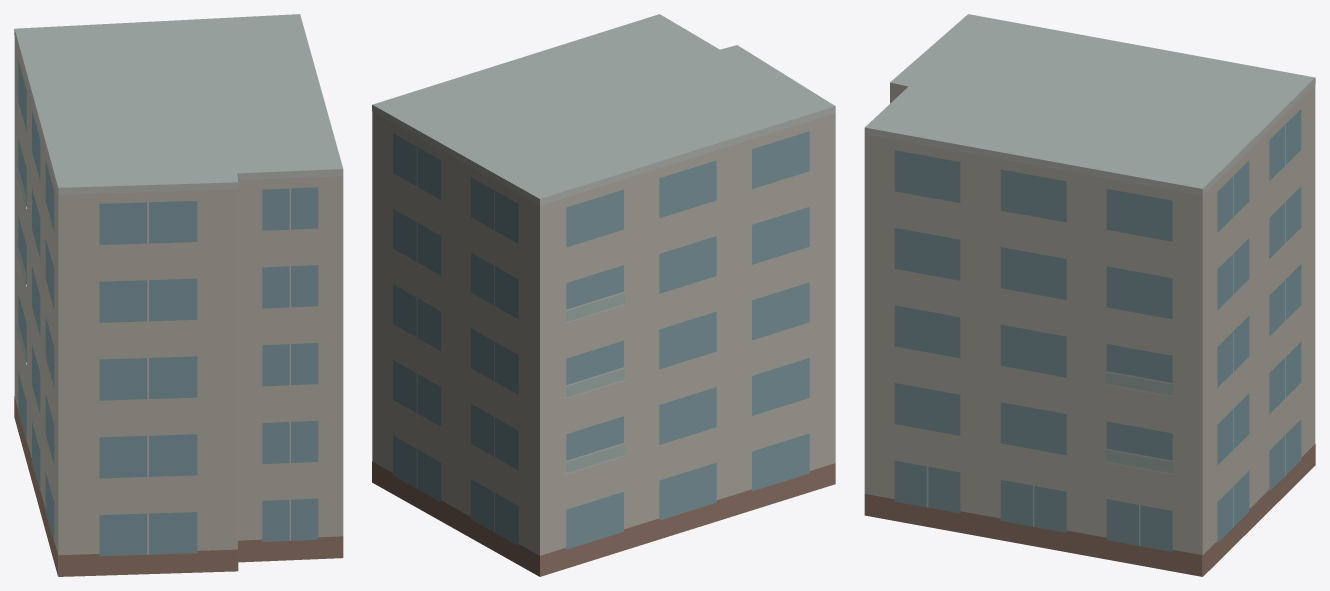
The model's file is survey-upis-32525922.glb.
The picture shows the model from 3 angles, left to right: view 1: azimuth 30°, elevation 25°; view 2: azimuth 150°, elevation 25°; view 3: azimuth 270°, elevation 25°; orthographic projection. The views are drawn at different scales.
Visible parts, largest first — view 1: survey-upis-32525922.tmp; view 2: survey-upis-32525922.tmp; view 3: survey-upis-32525922.tmp.
Boxes of the visible parts, x1,y1,x2,y2 form: survey-upis-32525922.tmp: [14, 14, 343, 576]; survey-upis-32525922.tmp: [372, 14, 835, 576]; survey-upis-32525922.tmp: [864, 14, 1315, 576].
Size of the model in its own units: 13.36 by 13.8 by 14.54.
